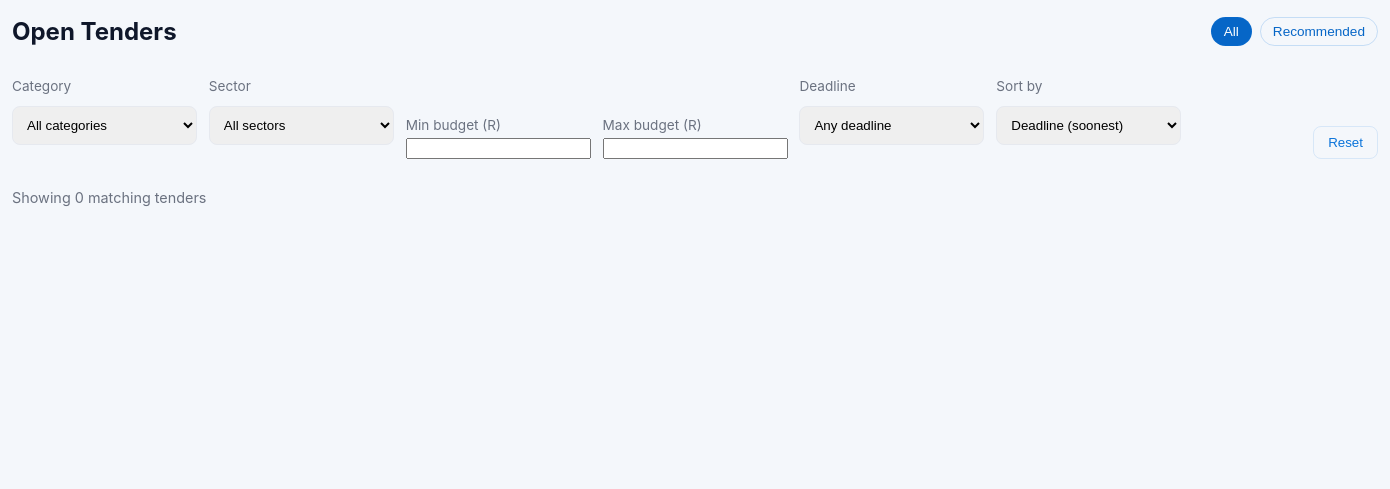
Test: TenderDashboard › suggested view toggle fetches personalised tenders
The image size is (1390, 489).
# Find and click the recommended toggle button
Click the button "Recommended": click(1319, 31) [1260,17,1378,46]
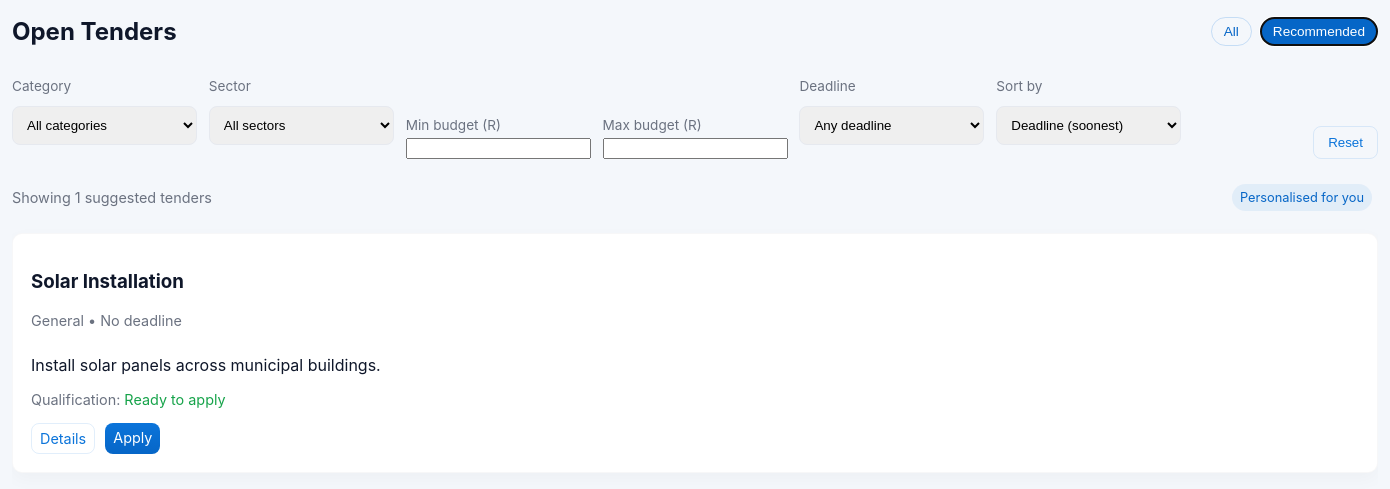
Now the heading "Solar Installation" is shown, box [31,270,184,293]
